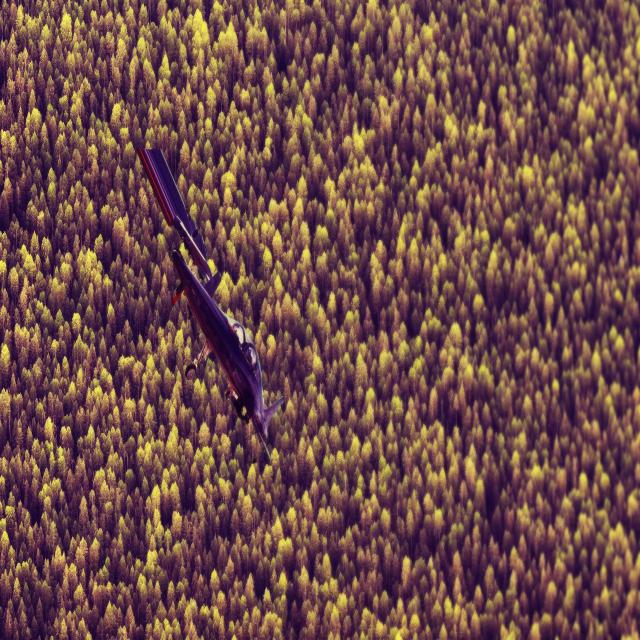airplane: (136, 146, 284, 462)
